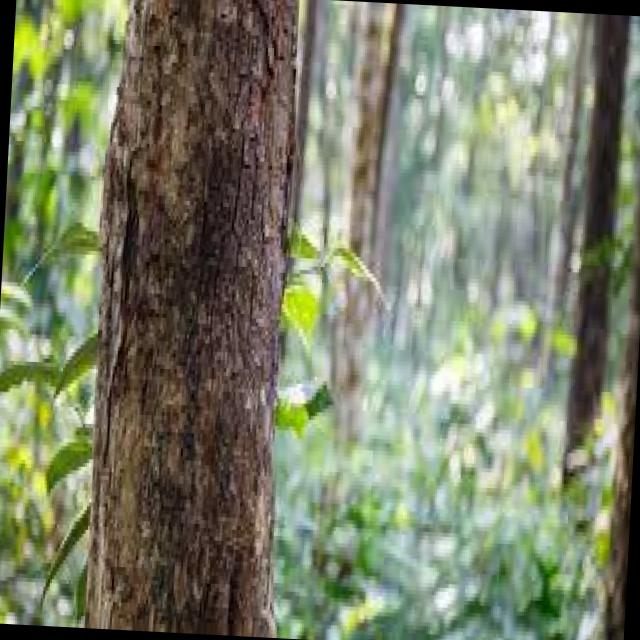Sandalwood: (98, 41, 441, 640)
